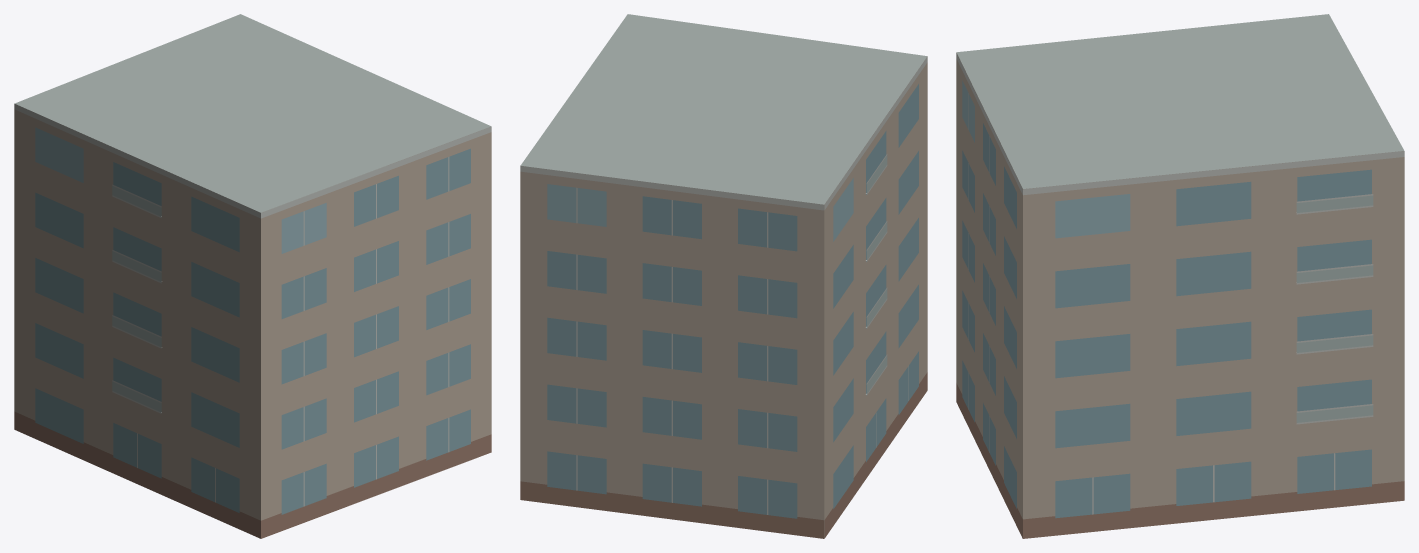
File: survey-upis-32592918.glb
3 renders of one model, left to right at view 1: azimuth 30°, elevation 25°; view 2: azimuth 150°, elevation 25°; view 3: azimuth 270°, elevation 25°, orthographic. The views are drawn at different scales.
Visible parts, largest first — view 1: survey-upis-32592918.tmp; view 2: survey-upis-32592918.tmp; view 3: survey-upis-32592918.tmp.
Boxes of the visible parts, bbox=[...] form: survey-upis-32592918.tmp: bbox=[14, 14, 491, 538]; survey-upis-32592918.tmp: bbox=[520, 14, 927, 538]; survey-upis-32592918.tmp: bbox=[956, 14, 1404, 538].
Size of the model in its own units: 14.93 by 13.9 by 16.15.
